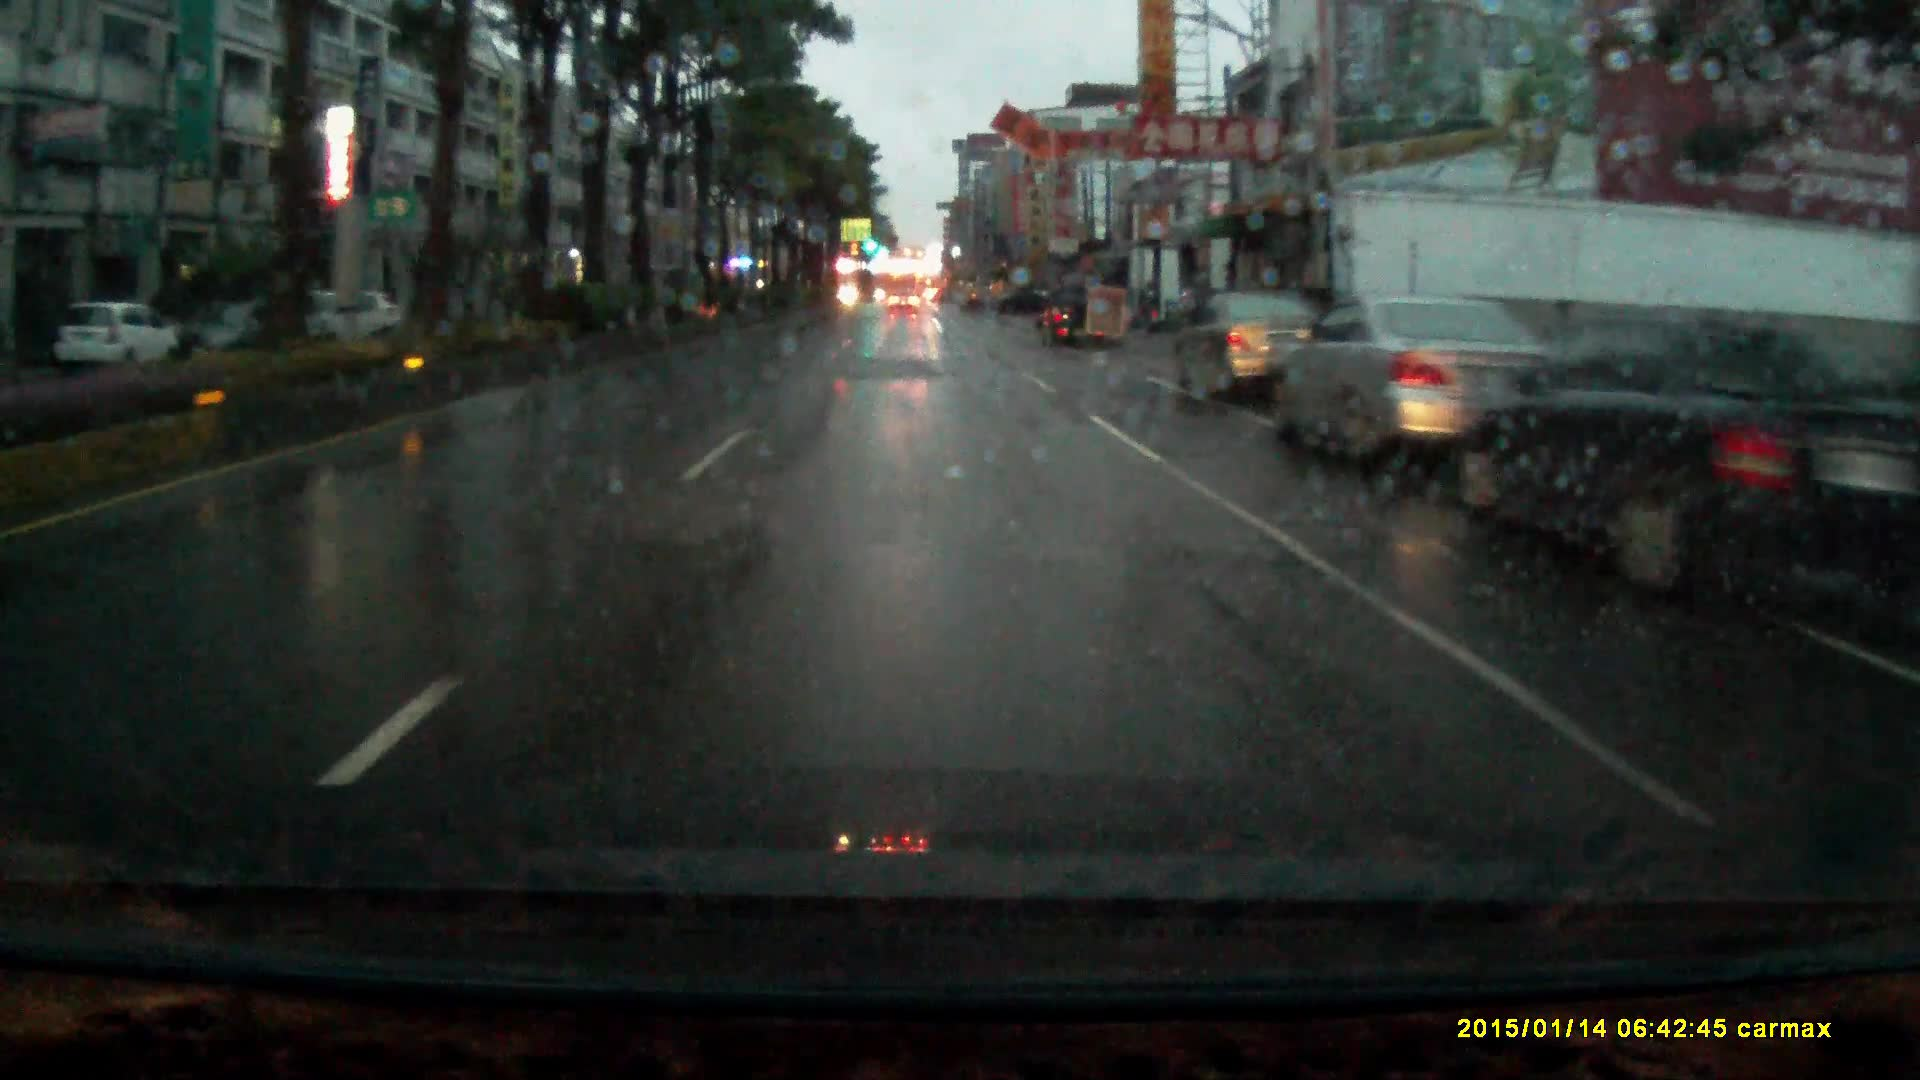vehicle: (1484, 313, 1780, 560), (1270, 295, 1638, 477), (1174, 298, 1331, 410), (258, 295, 390, 357), (71, 309, 186, 376), (1040, 286, 1112, 360), (887, 294, 920, 324)
